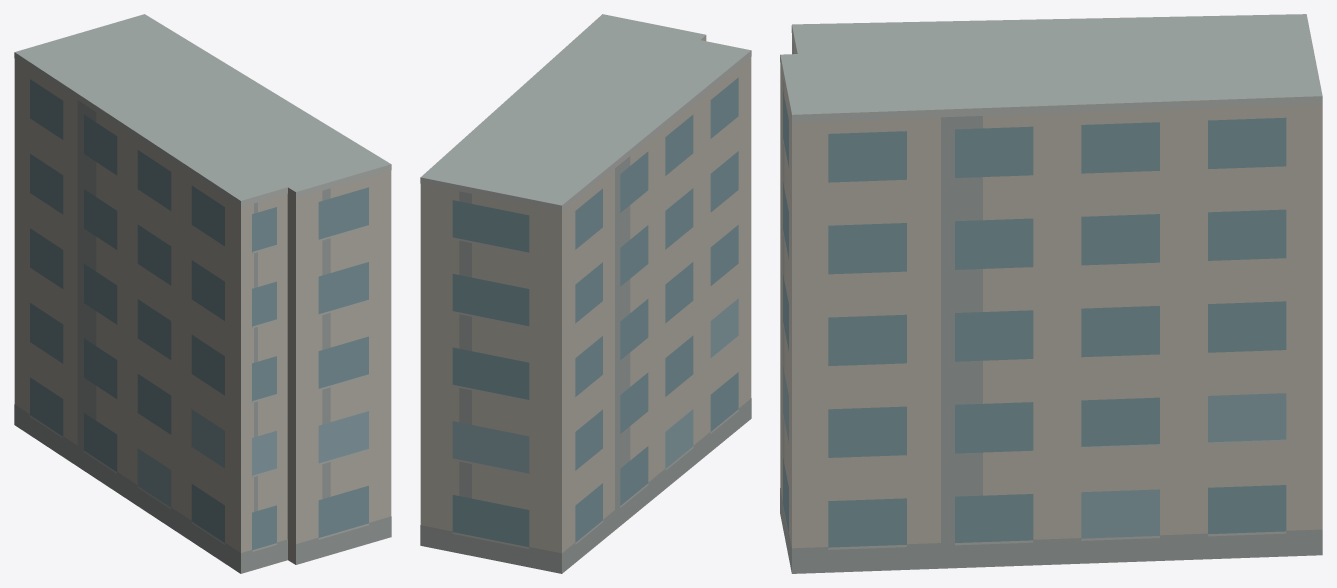
File: survey-upis-32571500.glb
3 renders of one model, left to right at view 1: azimuth 30°, elevation 25°; view 2: azimuth 150°, elevation 25°; view 3: azimuth 270°, elevation 25°, orthographic. The views are drawn at different scales.
Parts seen in each view (by area): view 1: survey-upis-32571500.tmp; view 2: survey-upis-32571500.tmp; view 3: survey-upis-32571500.tmp.
Part boxes in pixels (x1,y1,x2,y2): survey-upis-32571500.tmp: [14, 14, 391, 573]; survey-upis-32571500.tmp: [420, 14, 751, 573]; survey-upis-32571500.tmp: [780, 14, 1322, 573].
Bounding box in the file's own units: 6.79 × 14.4 × 15.43.
